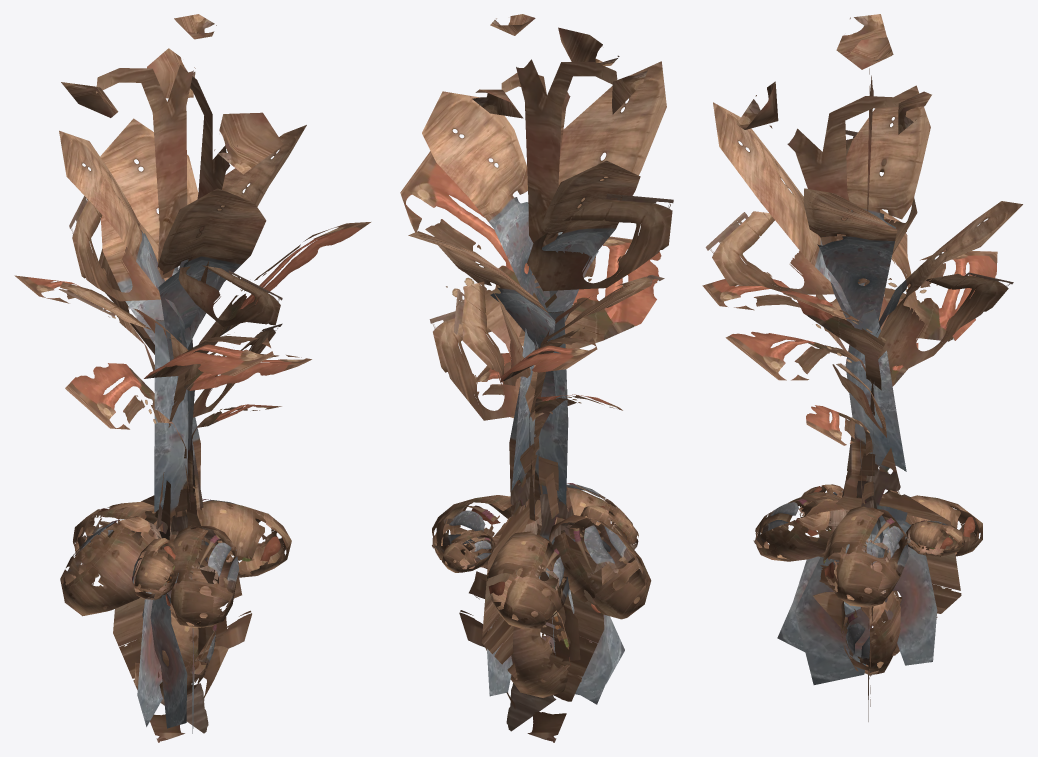
3 views of the same model, side by side, from view 1: azimuth 30°, elevation 25°; view 2: azimuth 150°, elevation 25°; view 3: azimuth 270°, elevation 25° (orthographic). The views are drawn at different scales.
Visible parts, largest first — view 1: SM_Pottery_Wheel_01_LOD0; view 2: SM_Pottery_Wheel_01_LOD0; view 3: SM_Pottery_Wheel_01_LOD0.
Boxes of the visible parts, x1,y1,x2,y2 form: SM_Pottery_Wheel_01_LOD0: [14, 14, 370, 742]; SM_Pottery_Wheel_01_LOD0: [400, 14, 673, 742]; SM_Pottery_Wheel_01_LOD0: [702, 14, 1022, 721].
Size of the model in its own units: 0.6546 by 1.64 by 0.693.
